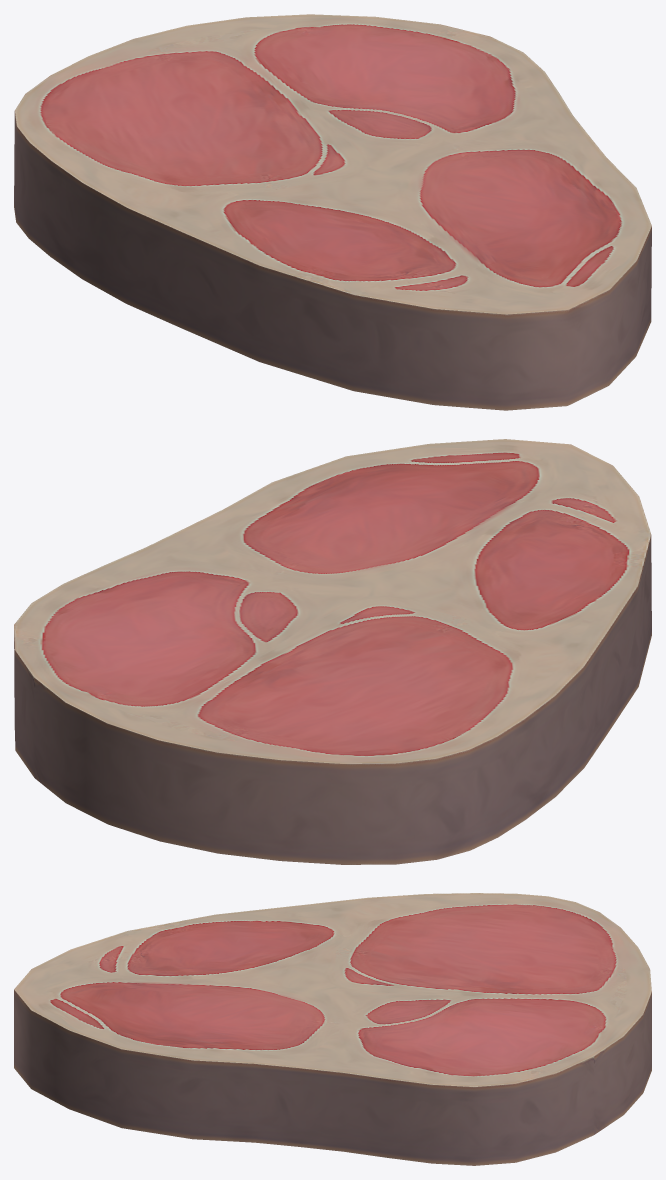
Rendered from meat.fbx.
3 views of the same model, one above another, from view 1: azimuth 30°, elevation 25°; view 2: azimuth 150°, elevation 25°; view 3: azimuth 270°, elevation 25° (orthographic). The views are drawn at different scales.
Parts seen in each view (by area): view 1: Circle; view 2: Circle; view 3: Circle.
Part boxes in pixels (left/top/right/bottom): Circle: left=14, top=14, right=651, bottom=410; Circle: left=14, top=439, right=651, bottom=864; Circle: left=14, top=893, right=651, bottom=1165.
Size of the model in its own units: 179 by 37.04 by 254.
